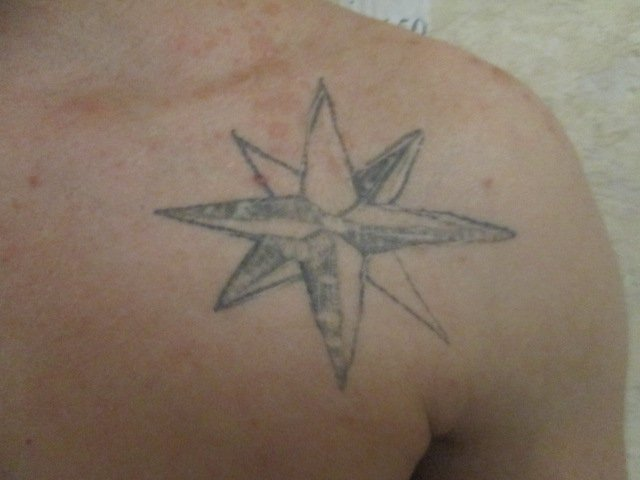tatu4_zvezda: (154, 82, 515, 393)
